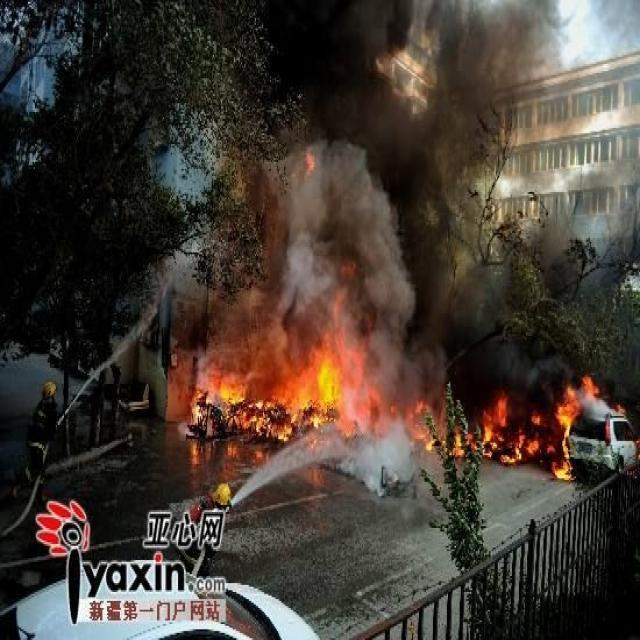Fire: (454, 376, 600, 484), (192, 346, 342, 446), (404, 400, 436, 452)
Smoke: (150, 4, 640, 498)
